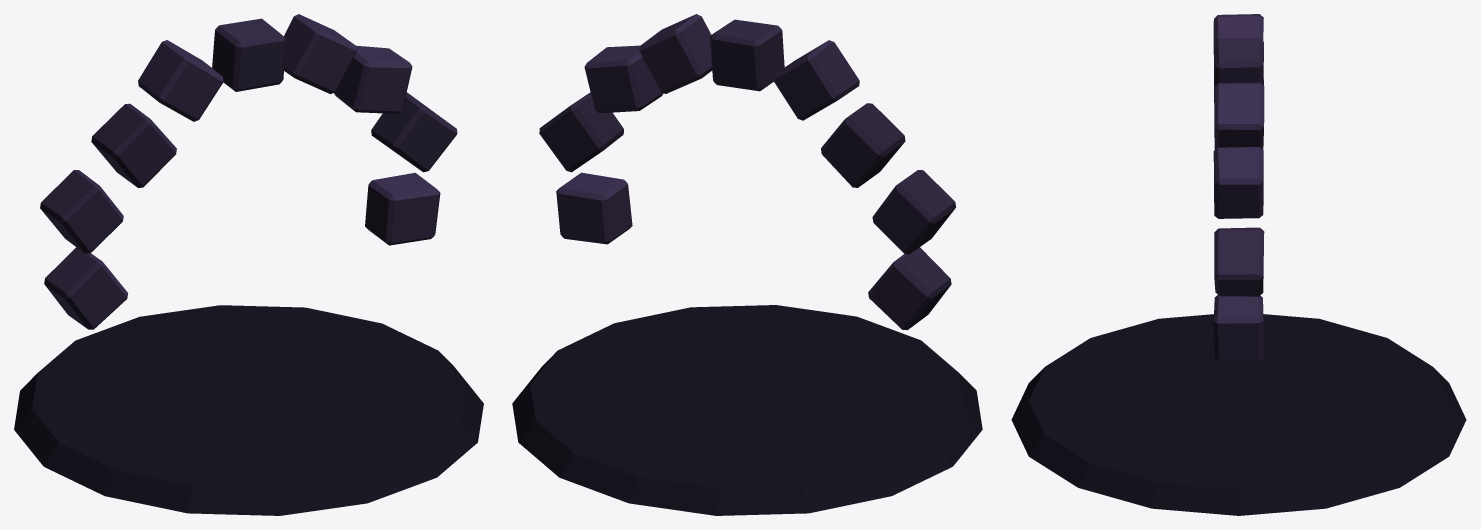
File: inc_umbral_portal.fbx
The picture shows the model from 3 angles, left to right: view 1: azimuth 30°, elevation 25°; view 2: azimuth 150°, elevation 25°; view 3: azimuth 270°, elevation 25°; orthographic projection. The views are drawn at different scales.
Visible parts, largest first — view 1: inc_umbral_portal; view 2: inc_umbral_portal; view 3: inc_umbral_portal.
Part boxes in pixels (x1=…): inc_umbral_portal: x1=14, y1=14, x2=483, y2=515; inc_umbral_portal: x1=512, y1=14, x2=982, y2=515; inc_umbral_portal: x1=1011, y1=14, x2=1466, y2=515.
Size of the model in its own units: 13 by 11.74 by 13.
